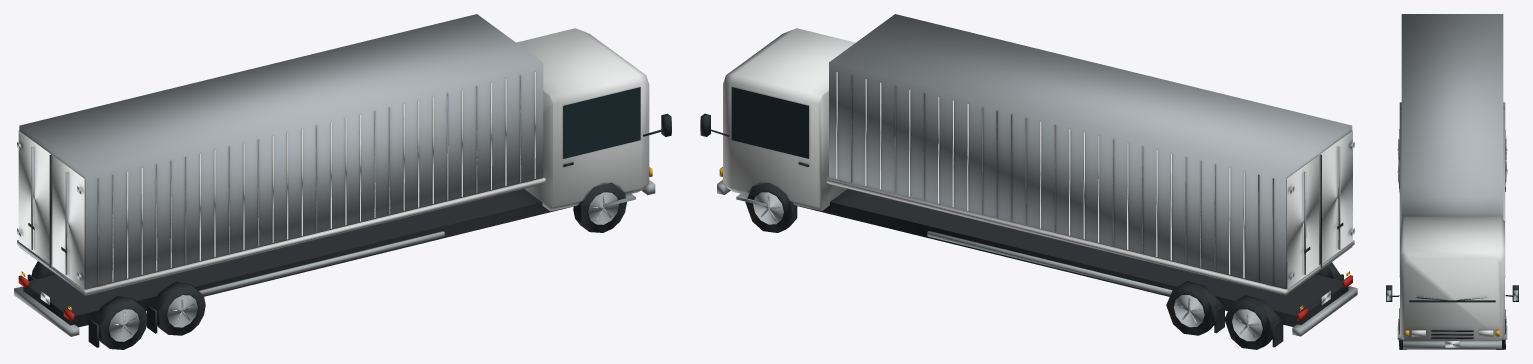
File: cargo_truck.lod1.obj
The picture shows the model from 3 angles, left to right: view 1: azimuth 30°, elevation 25°; view 2: azimuth 150°, elevation 25°; view 3: azimuth 270°, elevation 25°; orthographic projection. The views are drawn at different scales.
Visible parts, largest first — view 1: cargo_truck; view 2: cargo_truck; view 3: cargo_truck.
Part boxes in pixels (box(x1,y1,x2,y2)): cargo_truck: box(14, 14, 671, 349); cargo_truck: box(700, 14, 1357, 349); cargo_truck: box(1386, 14, 1518, 349).
Bounding box in the file's own units: 12.1 × 3.62 × 3.1.
1 material, 1 textured.
